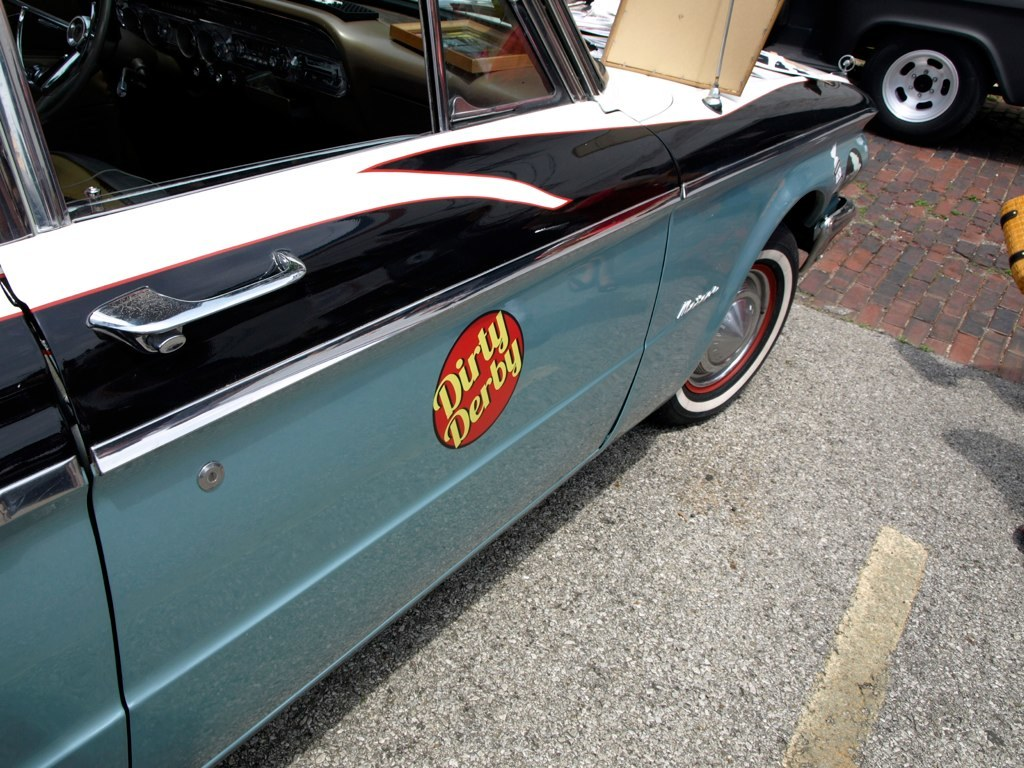Car: (0, 0, 880, 767), (766, 0, 1022, 144)
